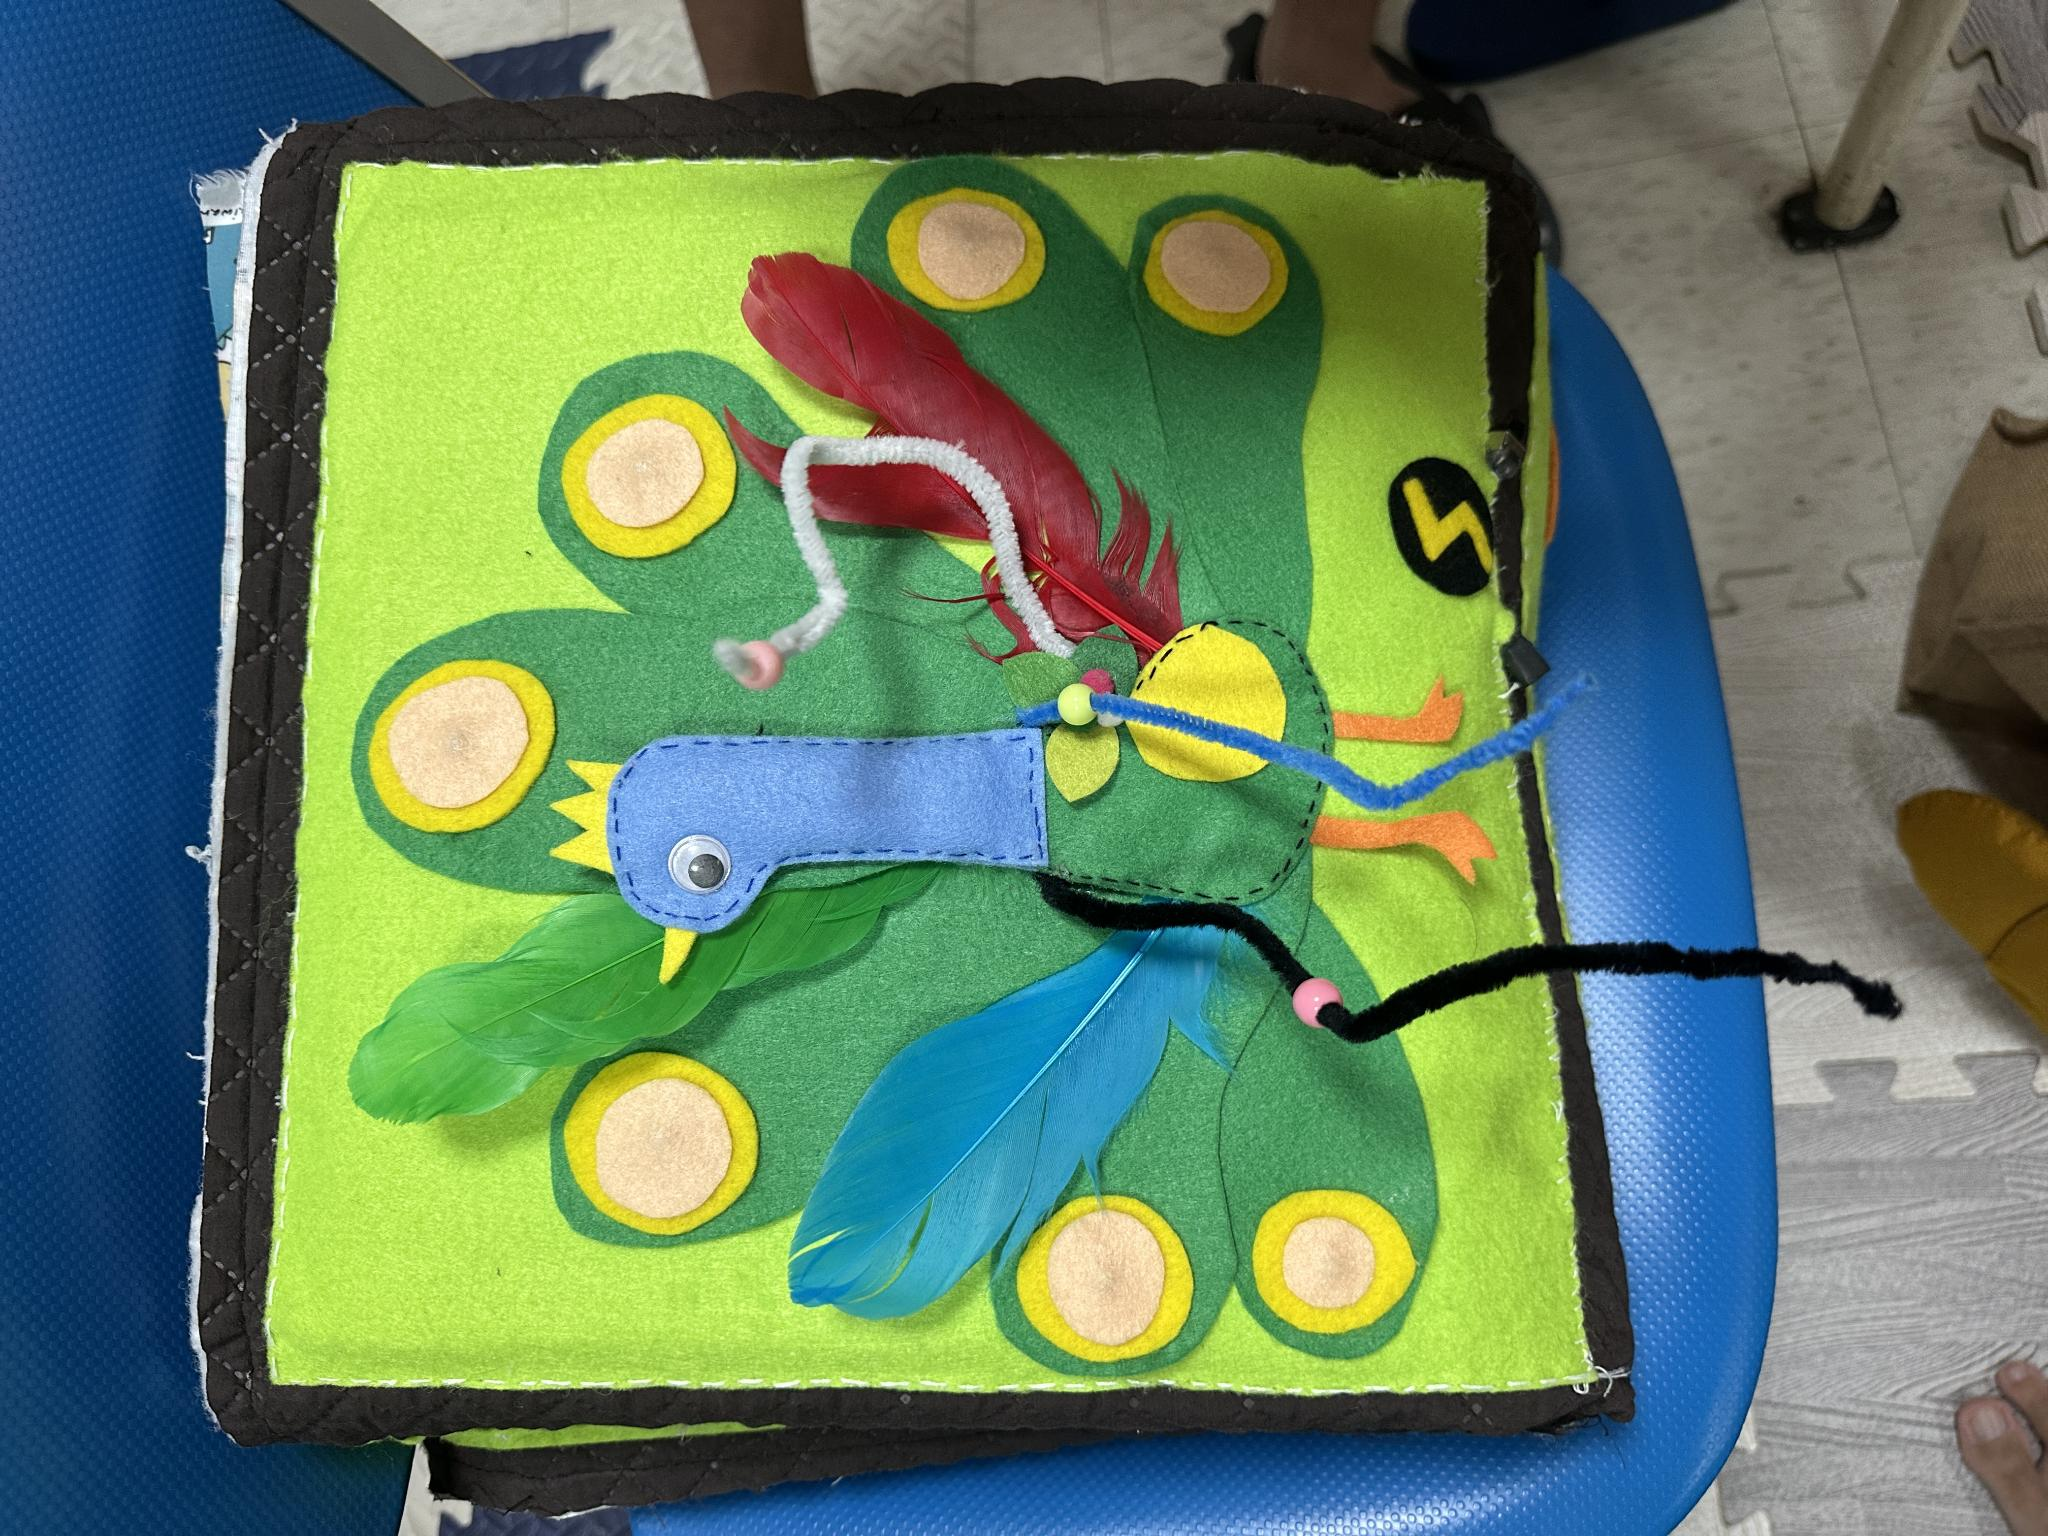bead: (722, 623, 793, 710), (1042, 666, 1109, 745), (1285, 962, 1347, 1028)
